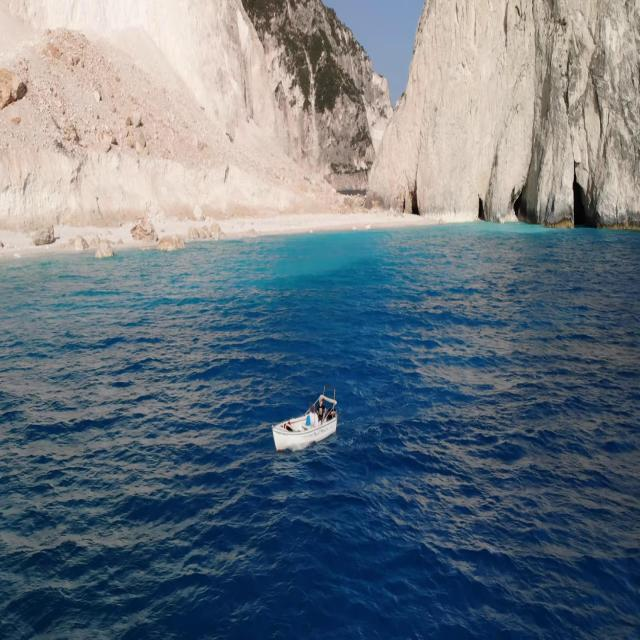boat: (278, 392, 339, 458)
